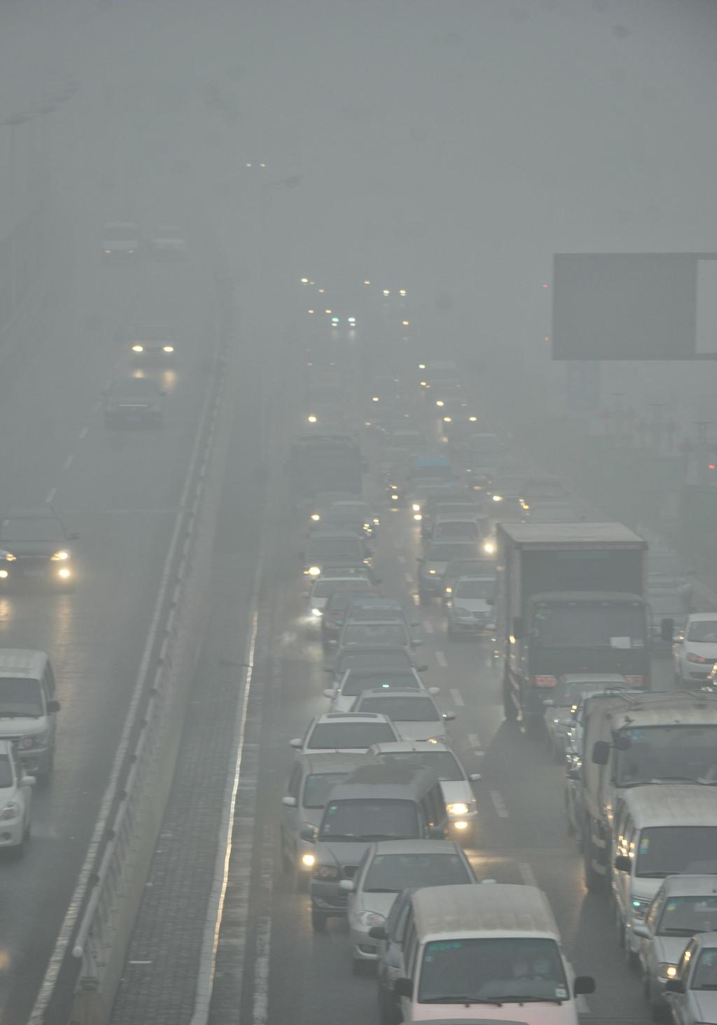bus: (484, 514, 677, 739), (562, 686, 717, 890), (277, 434, 372, 525), (301, 365, 357, 430)
car: (376, 881, 592, 1025), (299, 761, 449, 935), (337, 838, 480, 977), (605, 777, 717, 953), (368, 880, 502, 1002), (276, 750, 381, 886), (289, 712, 411, 822), (361, 738, 484, 843), (629, 872, 717, 1006), (348, 686, 458, 771), (1, 649, 63, 789), (541, 672, 632, 762), (1, 499, 82, 596), (323, 666, 440, 722), (324, 642, 432, 698), (414, 533, 489, 608), (445, 574, 519, 645), (297, 531, 377, 594), (1, 733, 40, 860), (436, 555, 513, 619), (328, 618, 425, 668), (300, 577, 379, 638), (665, 934, 717, 1025), (333, 596, 421, 647), (319, 589, 395, 648), (99, 377, 169, 432), (416, 493, 484, 547), (427, 511, 489, 566), (670, 612, 717, 683), (311, 513, 375, 562), (318, 560, 386, 603), (400, 452, 465, 493), (127, 323, 181, 370), (483, 470, 533, 517), (93, 216, 141, 264), (379, 462, 429, 507), (464, 449, 514, 492), (324, 502, 383, 538), (403, 485, 456, 524), (523, 500, 594, 528), (422, 357, 464, 402), (146, 224, 189, 262), (437, 399, 479, 436), (385, 427, 431, 456), (367, 374, 406, 407)
